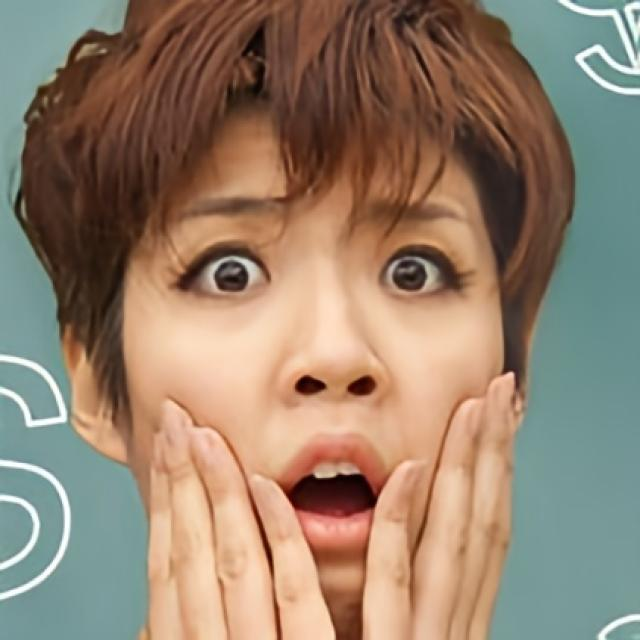fear: (118, 87, 506, 638)
